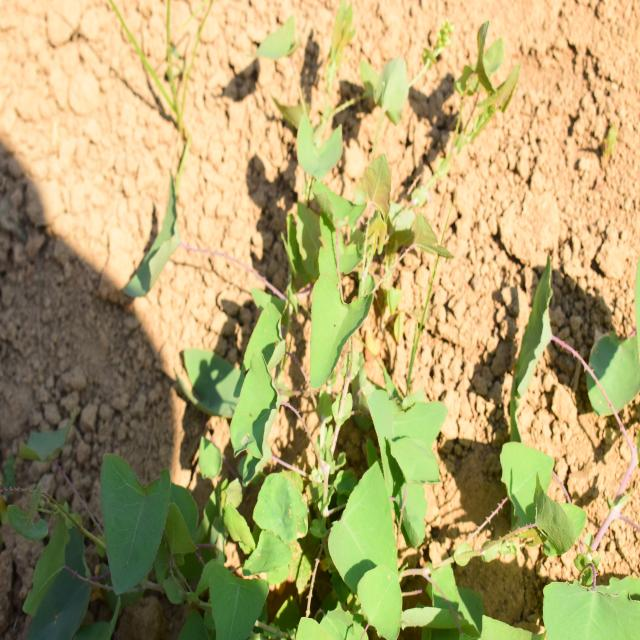Asiatic_Smartweed: (222, 215, 377, 497), (322, 386, 450, 636)
